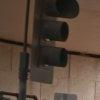Traffic light: (31, 6, 75, 71)
